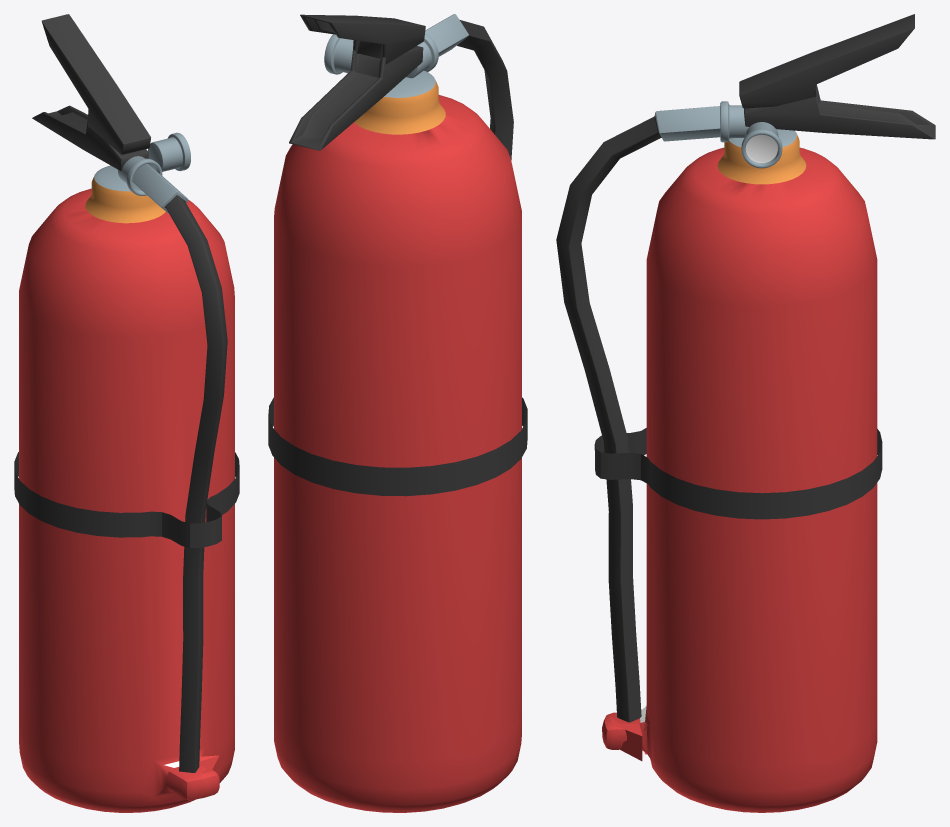
Rendered from APAR_001.fbx.
The picture shows the model from 3 angles, left to right: view 1: azimuth 30°, elevation 25°; view 2: azimuth 150°, elevation 25°; view 3: azimuth 270°, elevation 25°; orthographic projection. The views are drawn at different scales.
Parts seen in each view (by area): view 1: Cylinder.005, BézierCurve, Cylinder.017, Cube.003, Cube.004, Cylinder.016, Cylinder.006; view 2: Cylinder.005, Cylinder.017, Cube.004, BézierCurve, Cube.003, Cylinder.016, Cylinder.006; view 3: Cylinder.005, BézierCurve, Cylinder.017, Cube.003, Cube.004, Cylinder.016, Cylinder.006.
Part boxes in pixels (box(x1,y1,x2,y2)): Cylinder.005: box(19, 165, 234, 812); BézierCurve: box(132, 164, 227, 772); Cylinder.017: box(14, 452, 239, 548); Cube.003: box(41, 14, 150, 154); Cube.004: box(32, 105, 148, 170); Cylinder.016: box(148, 132, 190, 171); Cylinder.006: box(118, 156, 162, 195); Cylinder.005: box(274, 70, 521, 812); Cylinder.017: box(268, 397, 527, 496); Cube.004: box(289, 46, 423, 150); BézierCurve: box(425, 14, 513, 159); Cube.003: box(300, 14, 425, 64); Cylinder.016: box(324, 34, 353, 74); Cylinder.006: box(406, 33, 438, 78); Cylinder.005: box(602, 129, 877, 812); BézierCurve: box(556, 106, 720, 722); Cylinder.017: box(594, 428, 882, 519); Cube.003: box(739, 14, 914, 108); Cube.004: box(744, 84, 935, 139); Cylinder.016: box(741, 122, 782, 168); Cylinder.006: box(720, 101, 748, 142).
Bounding box in the file's own units: 14.4 × 49.73 × 22.69.
1 material, 1 textured.
